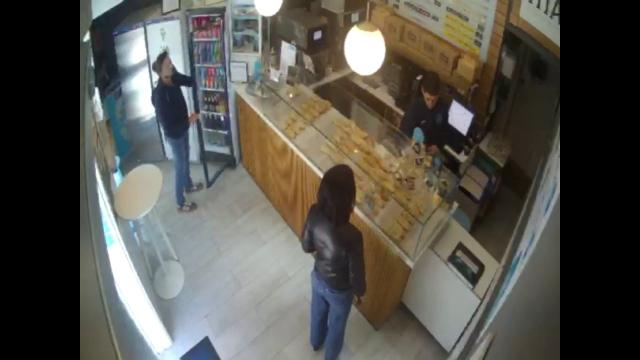cliente: (298, 164, 366, 360), (151, 50, 202, 211)
empleado: (400, 73, 448, 154)
